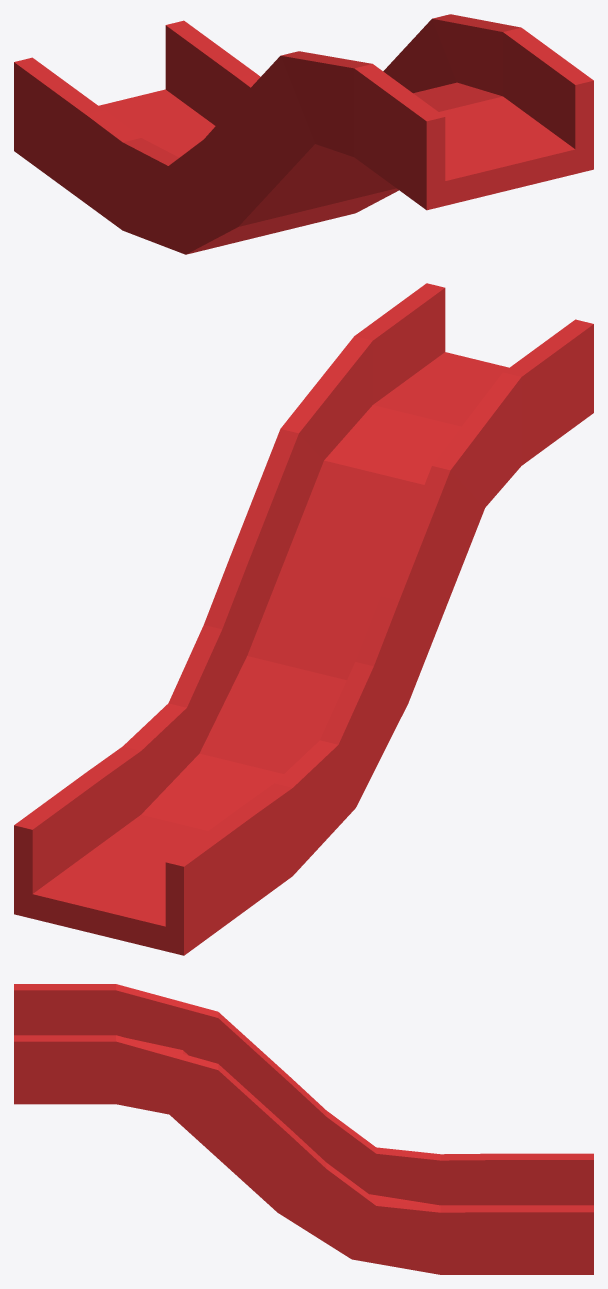
Rendered from pistaHotWheelsVertical.fbx.
3 views of the same model, one above another, from view 1: azimuth 30°, elevation 25°; view 2: azimuth 150°, elevation 25°; view 3: azimuth 270°, elevation 25° (orthographic). The views are drawn at different scales.
Parts seen in each view (by area): view 1: Cube; view 2: Cube; view 3: Cube.
Part boxes in pixels (<box>): Cube: <box>14,14,593,254</box>; Cube: <box>14,283,593,955</box>; Cube: <box>14,984,593,1274</box>.
Size of the model in its own units: 2 by 8.38 by 3.71.
